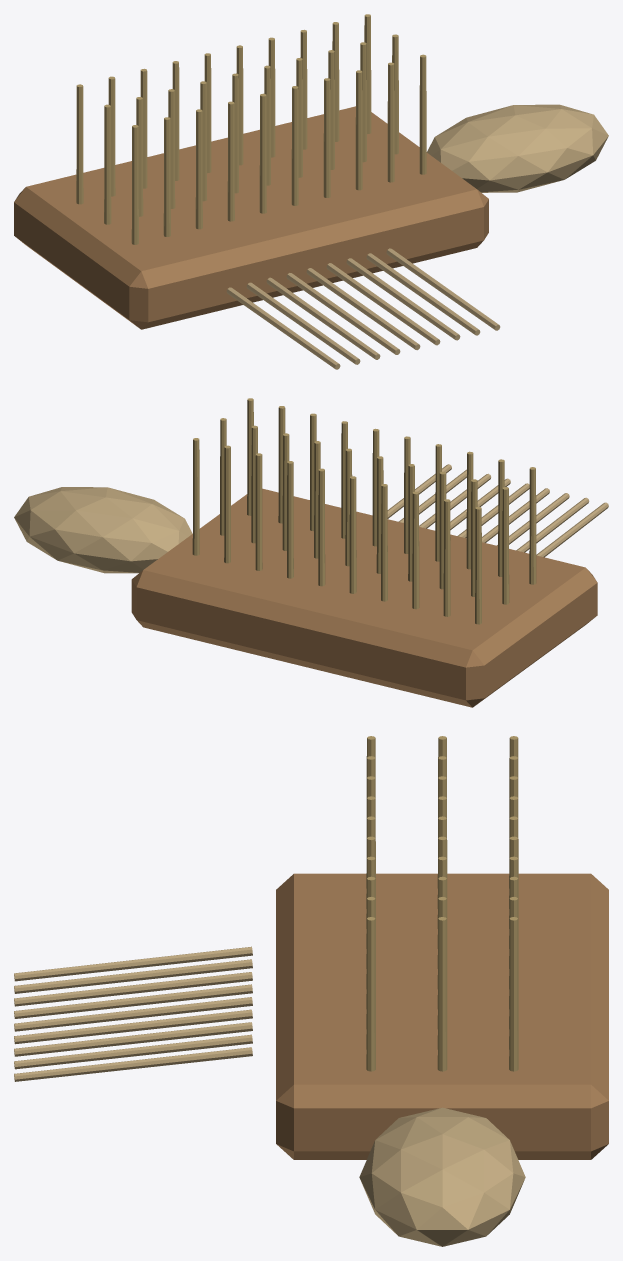
3 renders of one model, top to bottom at view 1: azimuth 30°, elevation 25°; view 2: azimuth 150°, elevation 25°; view 3: azimuth 270°, elevation 25°, orthographic. The views are drawn at different scales.
Visible parts, largest first — view 1: CE-058 Bronze-toothed oakum teasing comb batched; view 2: CE-058 Bronze-toothed oakum teasing comb batched; view 3: CE-058 Bronze-toothed oakum teasing comb batched.
Part boxes in pixels (bbox=[...]): CE-058 Bronze-toothed oakum teasing comb batched: bbox=[14, 14, 608, 369]; CE-058 Bronze-toothed oakum teasing comb batched: bbox=[14, 398, 608, 707]; CE-058 Bronze-toothed oakum teasing comb batched: bbox=[14, 736, 608, 1246].
Size of the model in its own units: 0.6596 by 0.21 by 0.5004.
